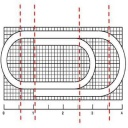Metal: (1, 26, 128, 99)
